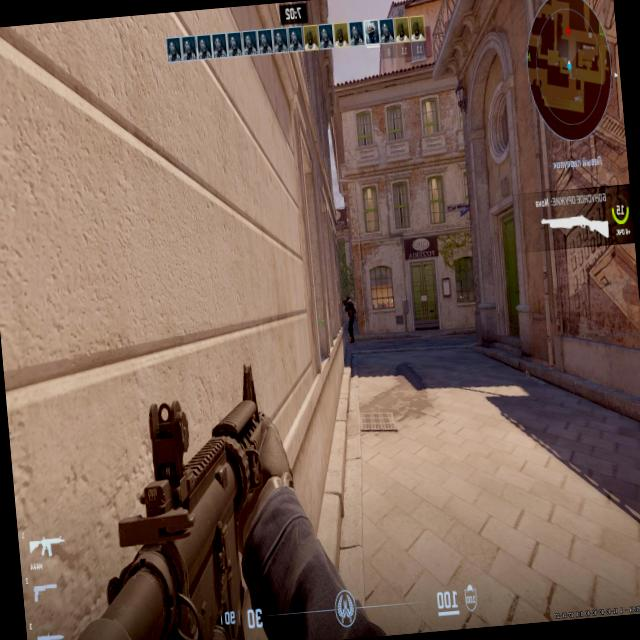CT: (344, 296, 356, 340)
CT_heat: (344, 294, 350, 306)
